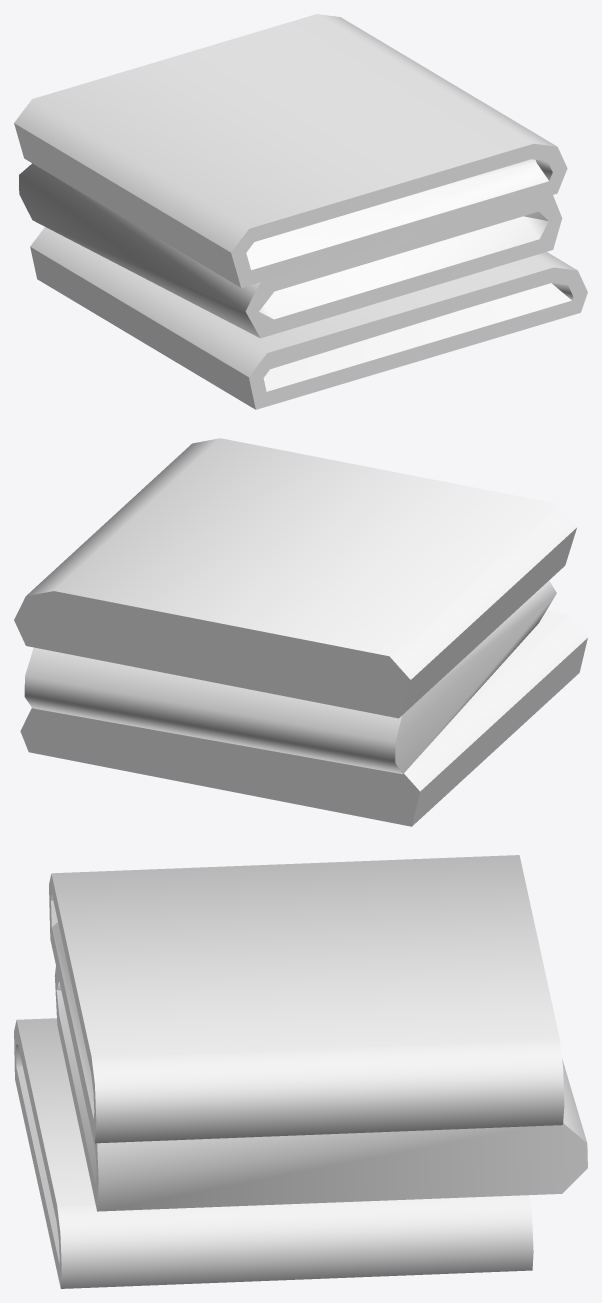
Rendered from clothes_007.fbx.
The picture shows the model from 3 angles, top to bottom: view 1: azimuth 30°, elevation 25°; view 2: azimuth 150°, elevation 25°; view 3: azimuth 270°, elevation 25°; orthographic projection. The views are drawn at different scales.
Visible parts, largest first — view 1: clothes_007; view 2: clothes_007; view 3: clothes_007.
Boxes of the visible parts, <box> form: clothes_007: <box>14,14,587,409</box>; clothes_007: <box>14,438,587,826</box>; clothes_007: <box>14,855,587,1288</box>.
Size of the model in its own units: 42.54 by 43.12 by 17.48.
